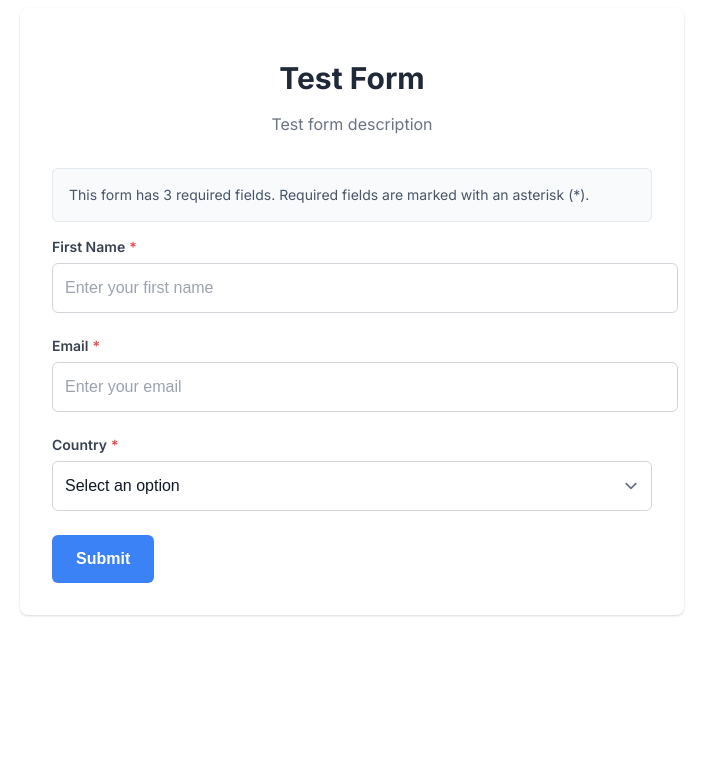
Form Component › validates email format correctly
In the field labelled "First Name*": (365, 288) [52,263,678,313], type "John"
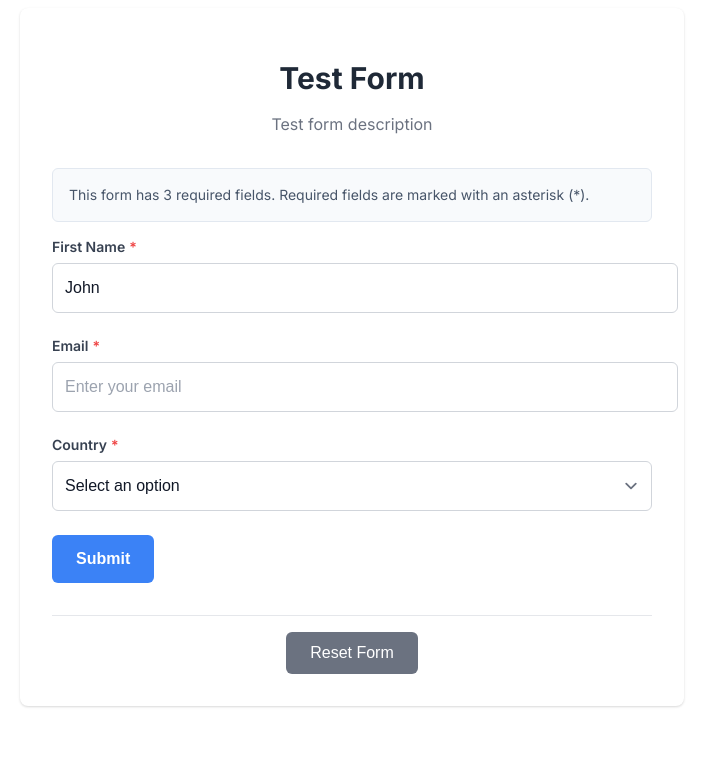
In the field labelled "Email*": (365, 387) [52,362,678,412], type "invalid-email"
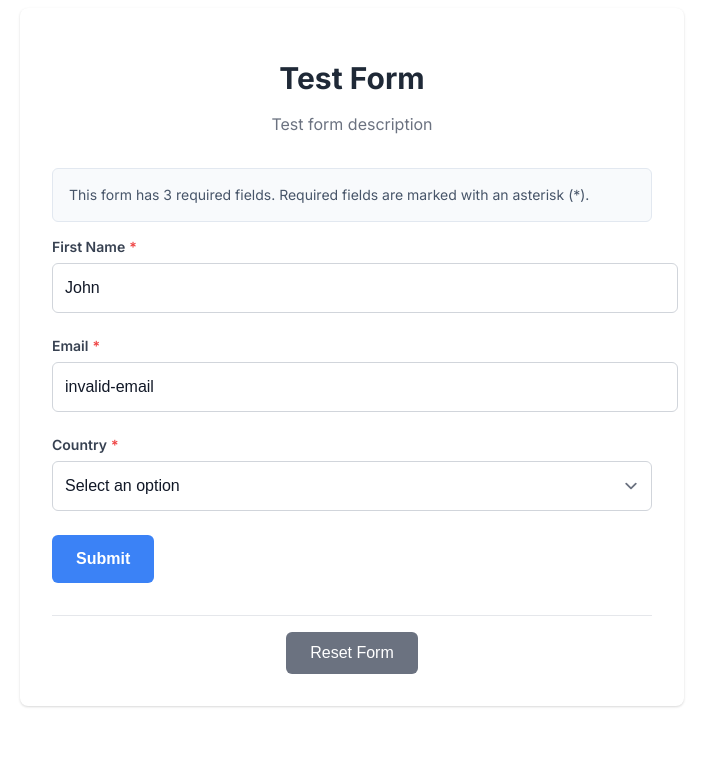
Select "United States" in the dropdown labelled "Country*": (352, 486) [52,461,652,511]
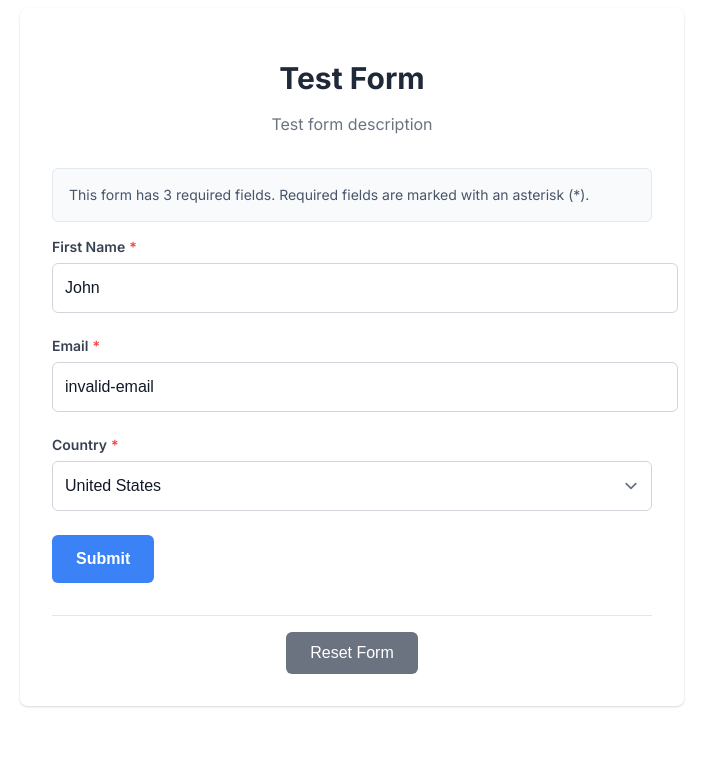
Click the button "Submit": (103, 559) [52,535,154,583]
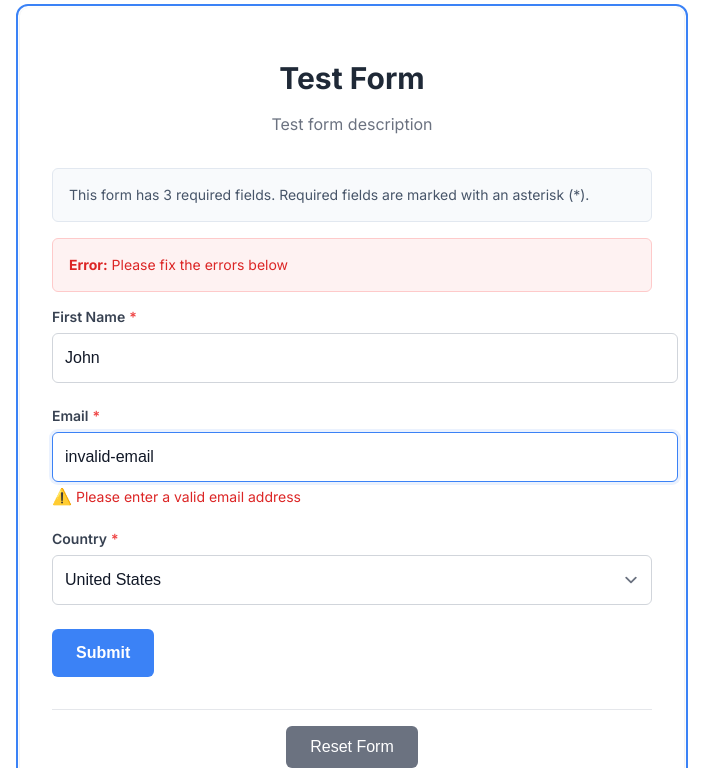
Now the text "Please enter a valid email address" is shown, box [76,488,301,505]
